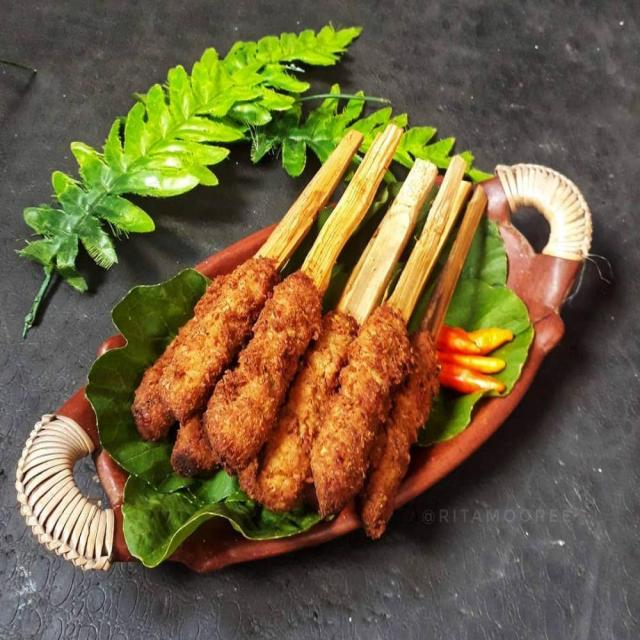Sate: (173, 151, 474, 527)
